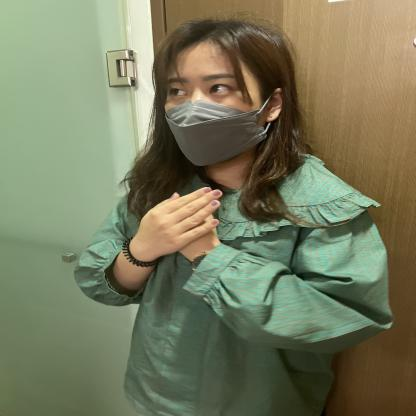Grieve: (21, 191, 368, 314)
